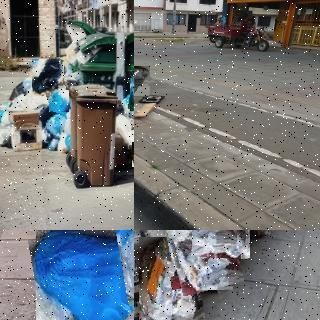Garbage: (32, 230, 134, 320), (135, 235, 201, 320), (164, 230, 238, 293), (192, 230, 251, 258), (31, 58, 65, 95), (48, 89, 70, 113), (46, 112, 66, 136), (134, 65, 150, 95)
